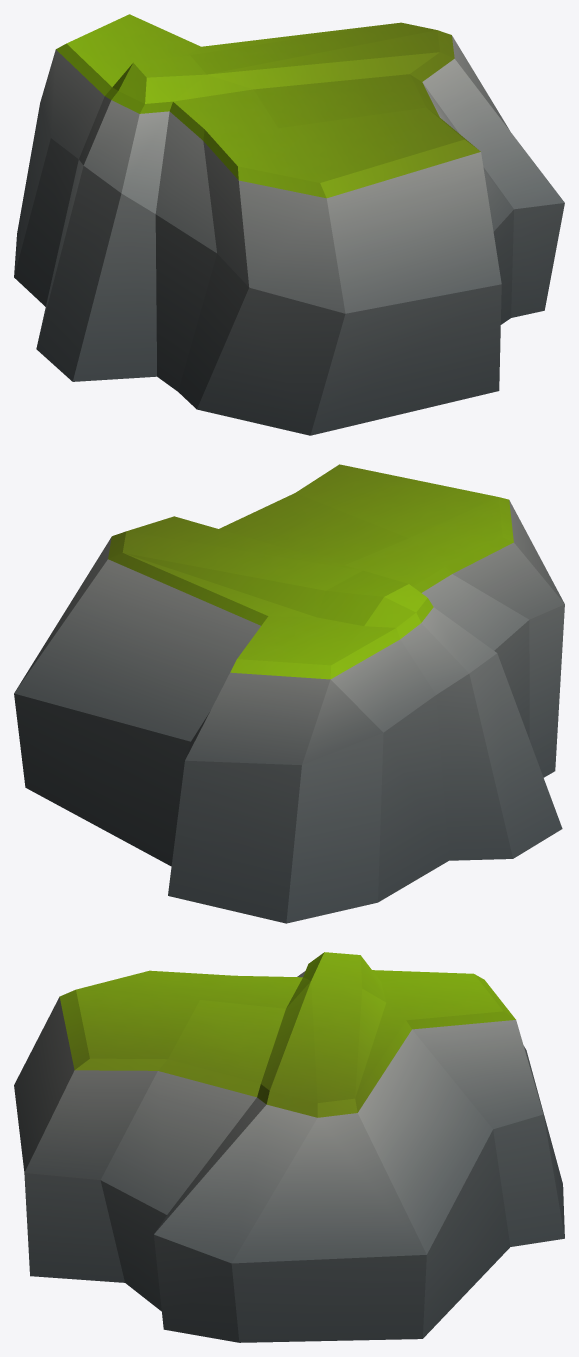
The model's file is Rock_Platform_Small_GrassVariant.fbx.
3 views of the same model, one above another, from view 1: azimuth 30°, elevation 25°; view 2: azimuth 150°, elevation 25°; view 3: azimuth 270°, elevation 25° (orthographic). The views are drawn at different scales.
Parts seen in each view (by area): view 1: Rock_Platform_Small_GrassVariant; view 2: Rock_Platform_Small_GrassVariant; view 3: Rock_Platform_Small_GrassVariant.
Part boxes in pixels (x1,y1,x2,y2): Rock_Platform_Small_GrassVariant: [14, 14, 564, 435]; Rock_Platform_Small_GrassVariant: [14, 464, 564, 923]; Rock_Platform_Small_GrassVariant: [14, 952, 564, 1342].
Bounding box in the file's own units: 633 × 324 × 690.
